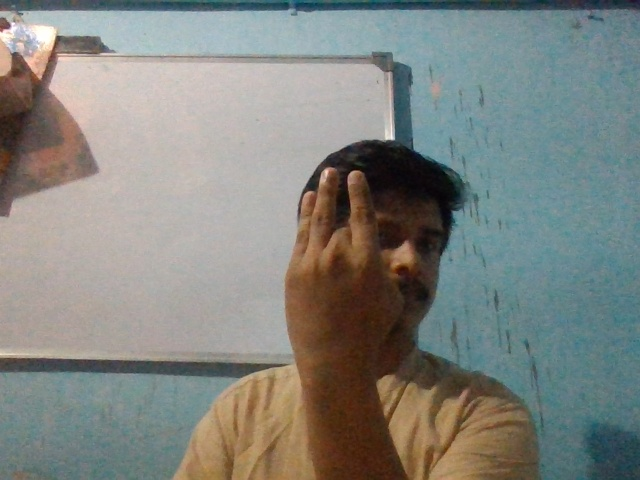Akash: (262, 157, 407, 368)
